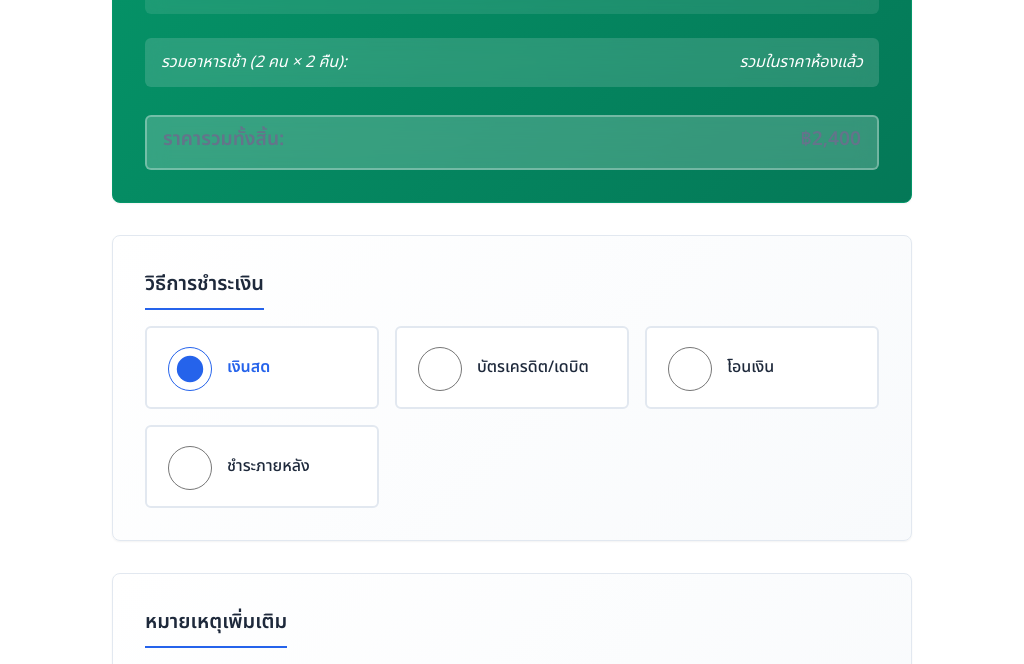
BookingConfirmation › Payment Method Selection › allows changing payment method
This screenshot has width=1024, height=664.
(page scrolled)
Click the radio button labelled "บัตรเครดิต/เดบิต". click: x=440, y=369
box: [418,347,462,391]
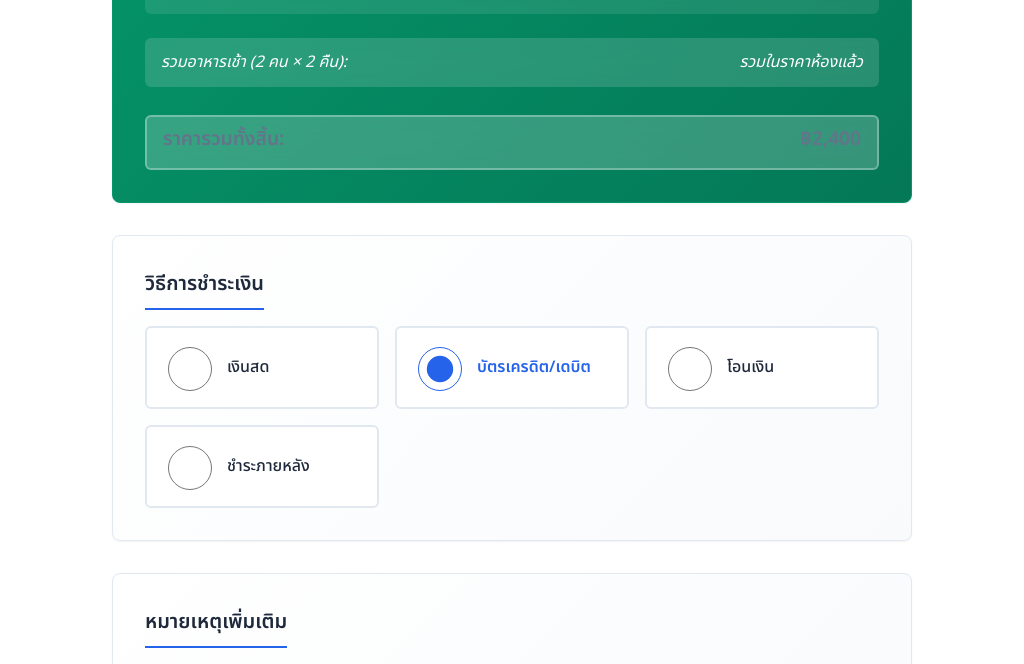
Expected: the radio button labelled "บัตรเครดิต/เดบิต" is checked, [418,347,462,391]
Expected: the radio button labelled "เงินสด" is not checked, [168,347,212,391]
